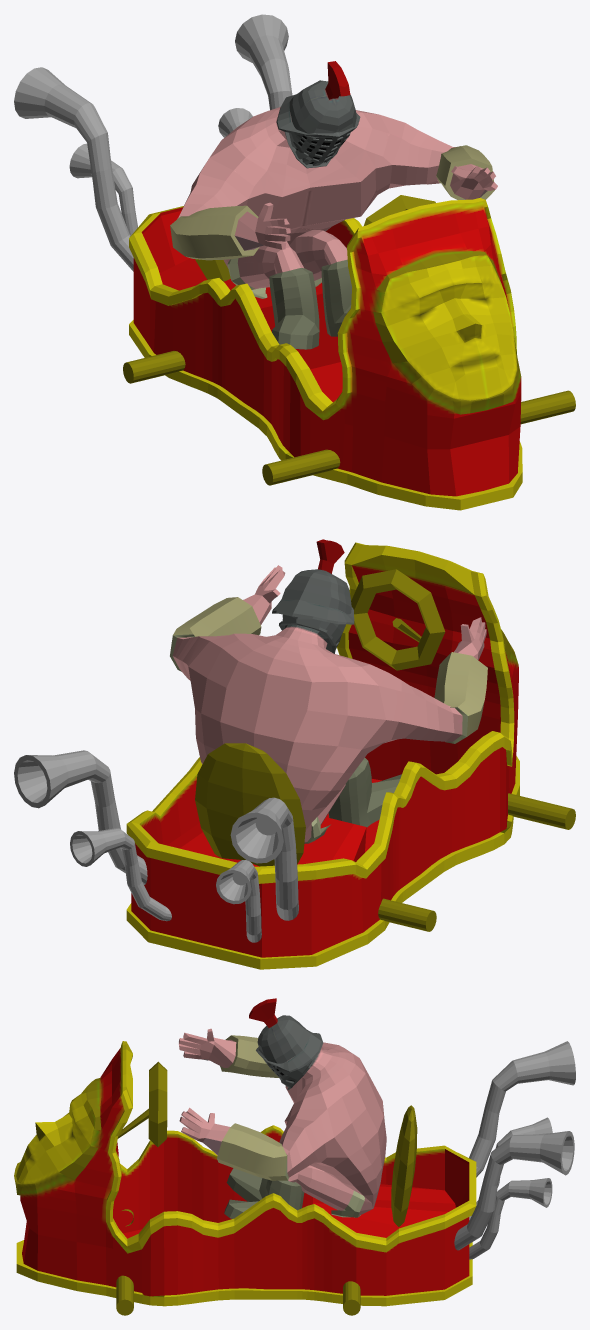
The model's file is GladiHabilidad_000533.obj.
3 renders of one model, top to bottom at view 1: azimuth 30°, elevation 25°; view 2: azimuth 150°, elevation 25°; view 3: azimuth 270°, elevation 25°, orthographic. The views are drawn at different scales.
Parts seen in each view (by area): view 1: GladiChasis_GladiChasisH, Gadiador_Gladiador_H.001, GladiTubos_GladiTubosH, GladiVolante_GladiVolanteH; view 2: GladiChasis_GladiChasisH, Gadiador_Gladiador_H.001, GladiVolante_GladiVolanteH, GladiTubos_GladiTubosH; view 3: GladiChasis_GladiChasisH, Gadiador_Gladiador_H.001, GladiTubos_GladiTubosH, GladiVolante_GladiVolanteH.
Boxes of the visible parts, x1,y1,x2,y2 form: GladiChasis_GladiChasisH: (129,198,522,510); Gadiador_Gladiador_H.001: (170,61,497,349); GladiTubos_GladiTubosH: (14,14,292,271); GladiVolante_GladiVolanteH: (123,195,575,485); GladiChasis_GladiChasisH: (126,542,519,969); Gadiador_Gladiador_H.001: (170,539,487,843); GladiVolante_GladiVolanteH: (195,569,575,931); GladiTubos_GladiTubosH: (14,750,298,942); GladiChasis_GladiChasisH: (14,1041,476,1306); Gadiador_Gladiador_H.001: (178,998,386,1218); GladiTubos_GladiTubosH: (454,1041,575,1259); GladiVolante_GladiVolanteH: (116,1061,417,1315).
Bounding box in the file's own units: 5.47 × 5.59 × 10.78.
